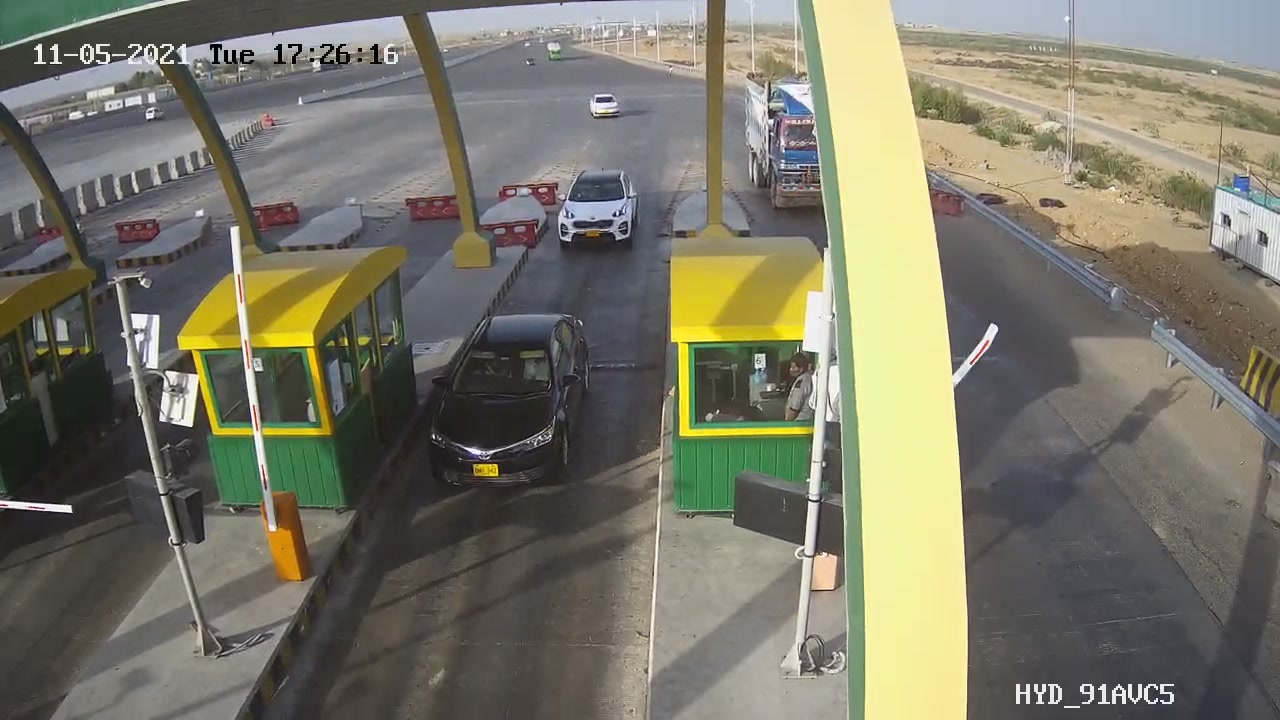F1: (394, 288, 604, 513)
